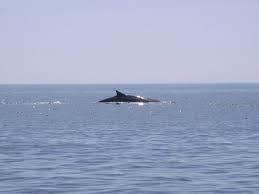fin: (90, 85, 180, 112)
